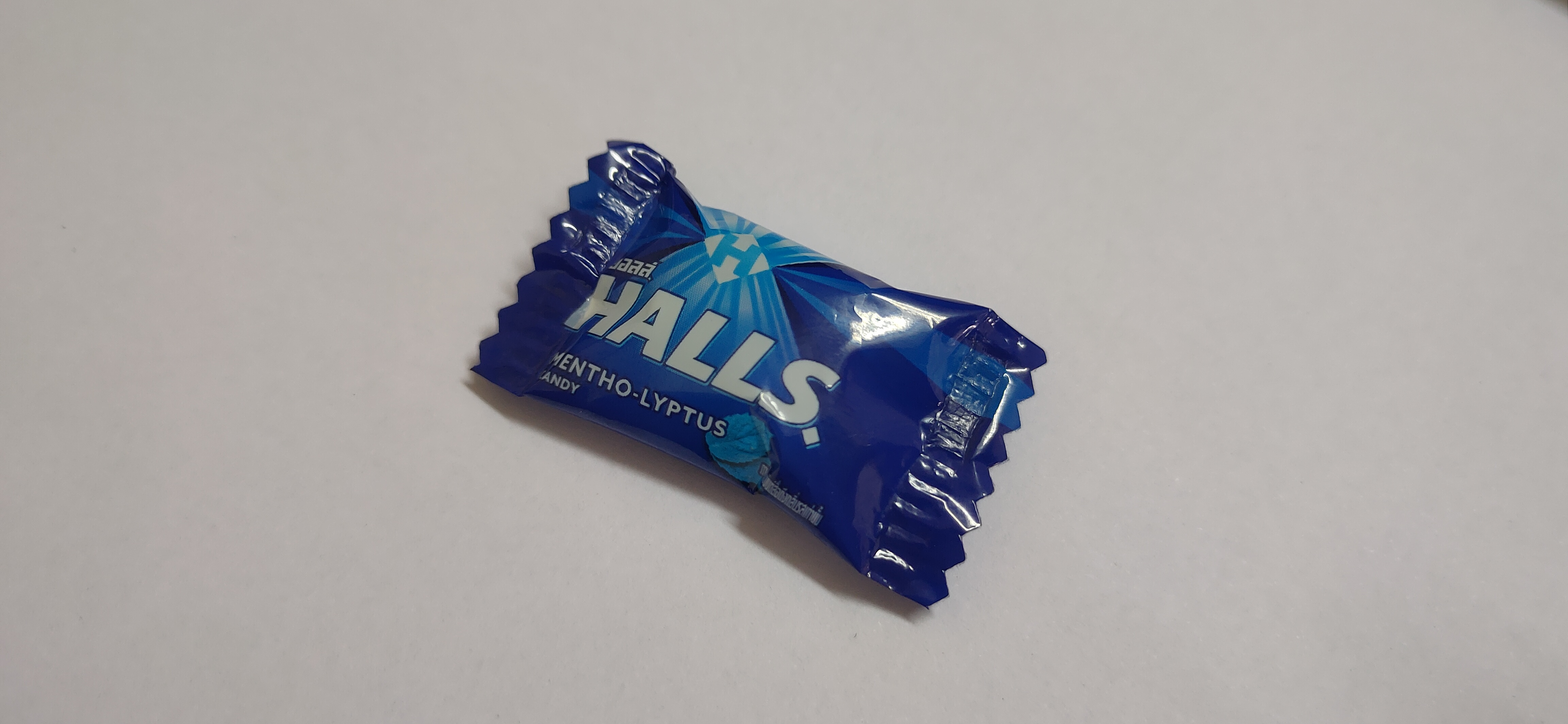plastic: (453, 130, 1054, 639)
